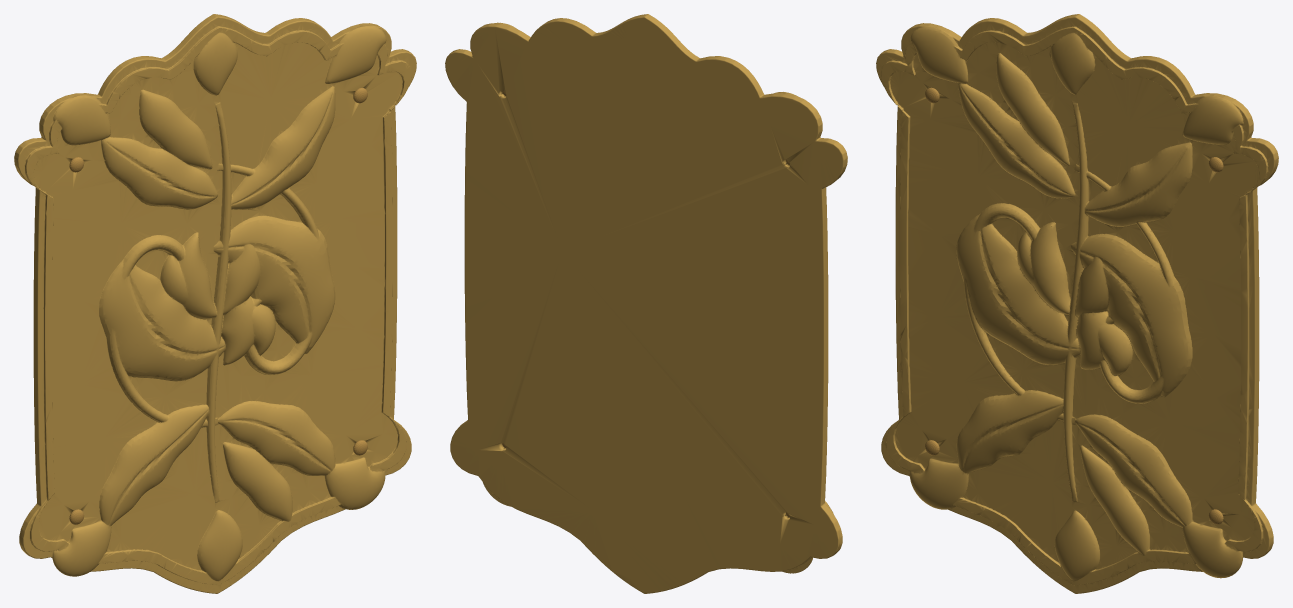
The model's file is gate-plaque.glb.
The picture shows the model from 3 angles, left to right: view 1: azimuth 30°, elevation 25°; view 2: azimuth 150°, elevation 25°; view 3: azimuth 330°, elevation 25°; orthographic projection.
Parts seen in each view (by area): view 1: gate08_single_cast_floral_plaque; view 2: gate08_single_cast_floral_plaque; view 3: gate08_single_cast_floral_plaque.
Boxes of the visible parts, bbox=[...] form: gate08_single_cast_floral_plaque: bbox=[14, 14, 416, 593]; gate08_single_cast_floral_plaque: bbox=[445, 14, 847, 593]; gate08_single_cast_floral_plaque: bbox=[876, 14, 1278, 593].
Size of the model in its own units: 0.4195 by 0.5796 by 0.0209.
